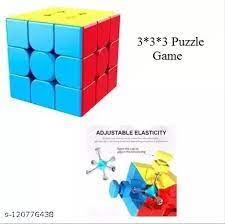cube: (4, 1, 124, 118)
